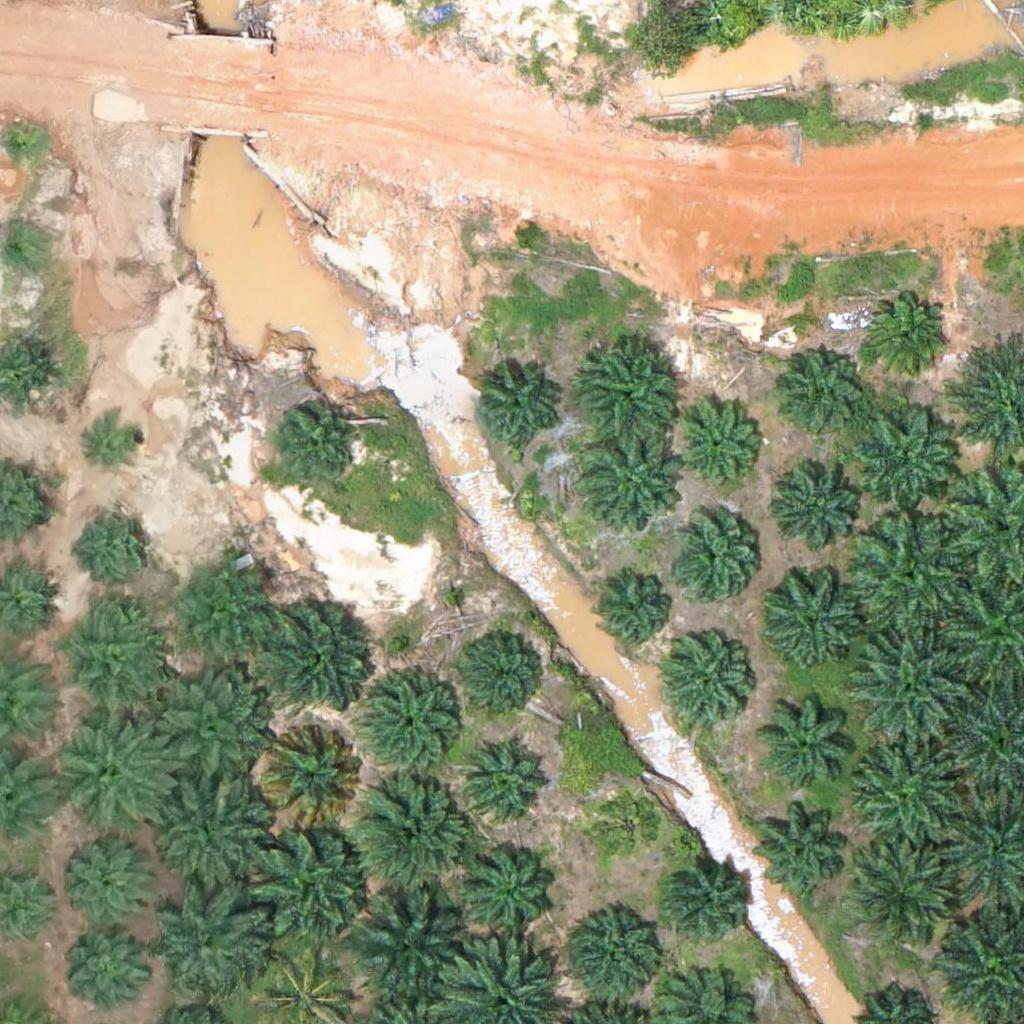Kelapa_Sawit: (50, 705, 175, 831), (849, 510, 974, 636), (253, 590, 378, 716), (247, 824, 372, 950), (150, 771, 275, 897), (147, 877, 272, 1003), (349, 766, 474, 892), (142, 670, 267, 795), (348, 882, 473, 1007), (255, 719, 368, 832), (167, 553, 279, 667), (356, 669, 468, 783), (57, 605, 169, 718), (847, 834, 959, 947), (851, 727, 963, 840), (851, 626, 963, 739), (64, 830, 164, 931), (859, 408, 959, 509), (755, 689, 855, 790), (754, 796, 854, 897), (582, 432, 682, 533), (578, 339, 678, 440), (457, 834, 557, 935), (560, 909, 660, 1010), (760, 570, 860, 670), (62, 924, 150, 1012), (781, 349, 869, 437), (674, 404, 762, 492), (671, 517, 759, 605), (663, 640, 751, 728), (473, 364, 561, 452), (662, 851, 749, 940), (272, 405, 359, 493), (591, 564, 678, 652), (861, 292, 948, 380), (775, 468, 862, 556), (465, 734, 552, 822), (460, 629, 547, 717), (80, 504, 155, 580), (591, 787, 666, 863), (85, 413, 147, 476)
